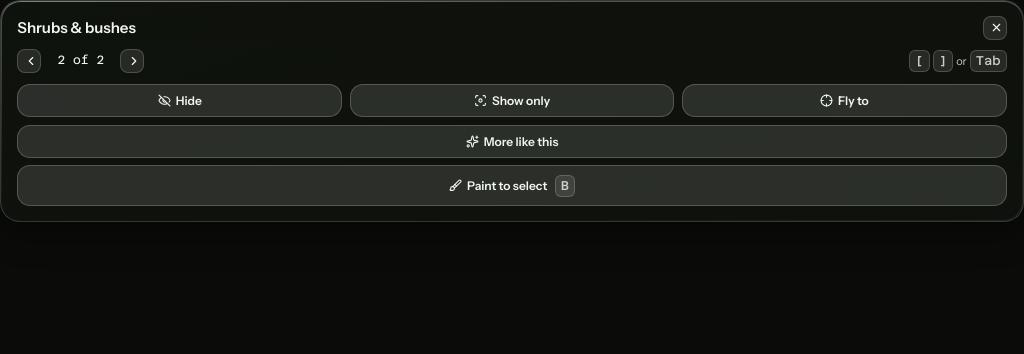
it: More like this › compares a part too small to describe by the object it is part of
Click the button "More like this".
click(512, 141)  # box x1=17 y1=125 x2=1007 y2=158
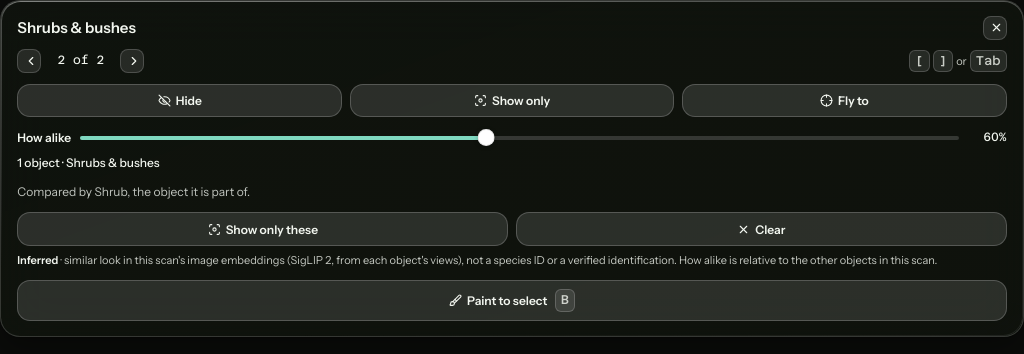
Expected: the text with test id "more-like-this-compared-by" reads "Compared by Shrub, the object it is part of.", x1=17 y1=184 x2=250 y2=199
